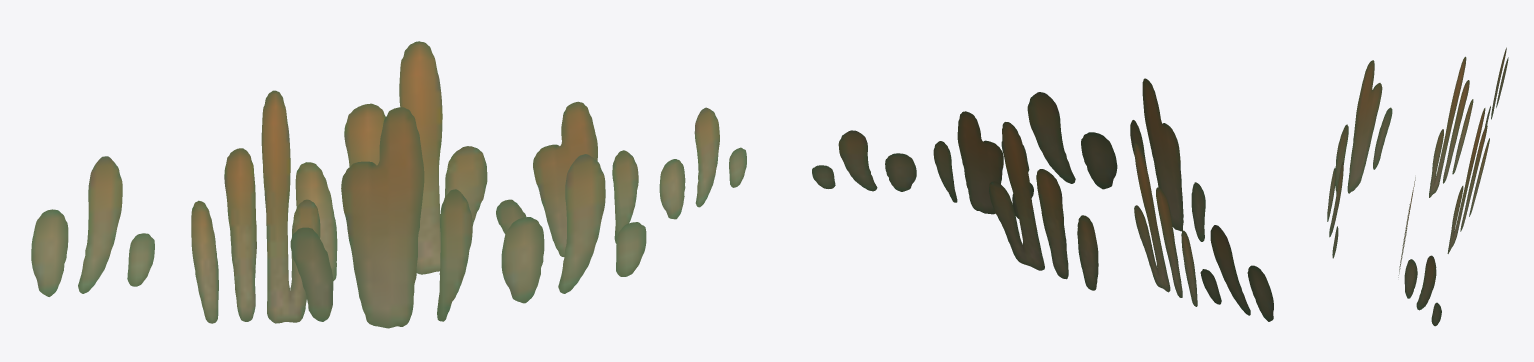
The model's file is pref_sm_beach_techsgrass10_alpha_01_lv2.fbx.
3 views of the same model, side by side, from view 1: azimuth 30°, elevation 25°; view 2: azimuth 150°, elevation 25°; view 3: azimuth 270°, elevation 25° (orthographic). The views are drawn at different scales.
Parts seen in each view (by area): view 1: pref_sm_beach_techsgrass10_alpha_01_lv2; view 2: pref_sm_beach_techsgrass10_alpha_01_lv2; view 3: pref_sm_beach_techsgrass10_alpha_01_lv2.
Boxes of the visible parts, bbox=[...] form: pref_sm_beach_techsgrass10_alpha_01_lv2: bbox=[31, 41, 746, 328]; pref_sm_beach_techsgrass10_alpha_01_lv2: bbox=[812, 78, 1273, 321]; pref_sm_beach_techsgrass10_alpha_01_lv2: bbox=[1327, 47, 1508, 326].
Size of the model in its own units: 1.5 by 0.5506 by 0.5418.
